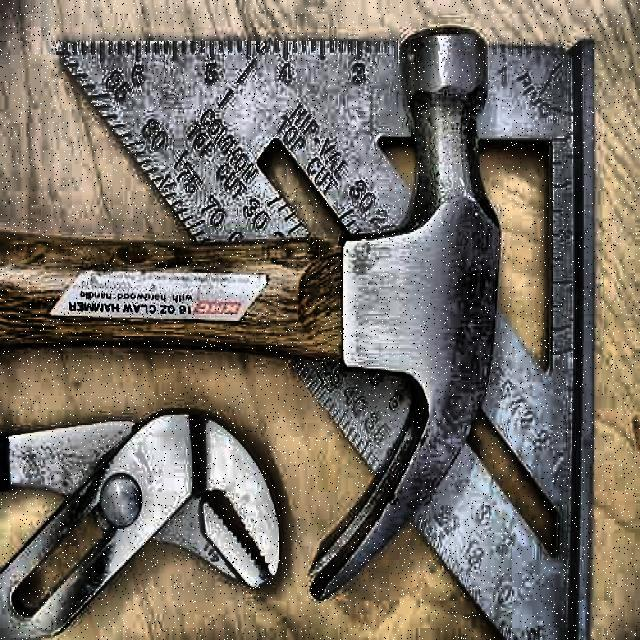hammer: (0, 20, 504, 586)
